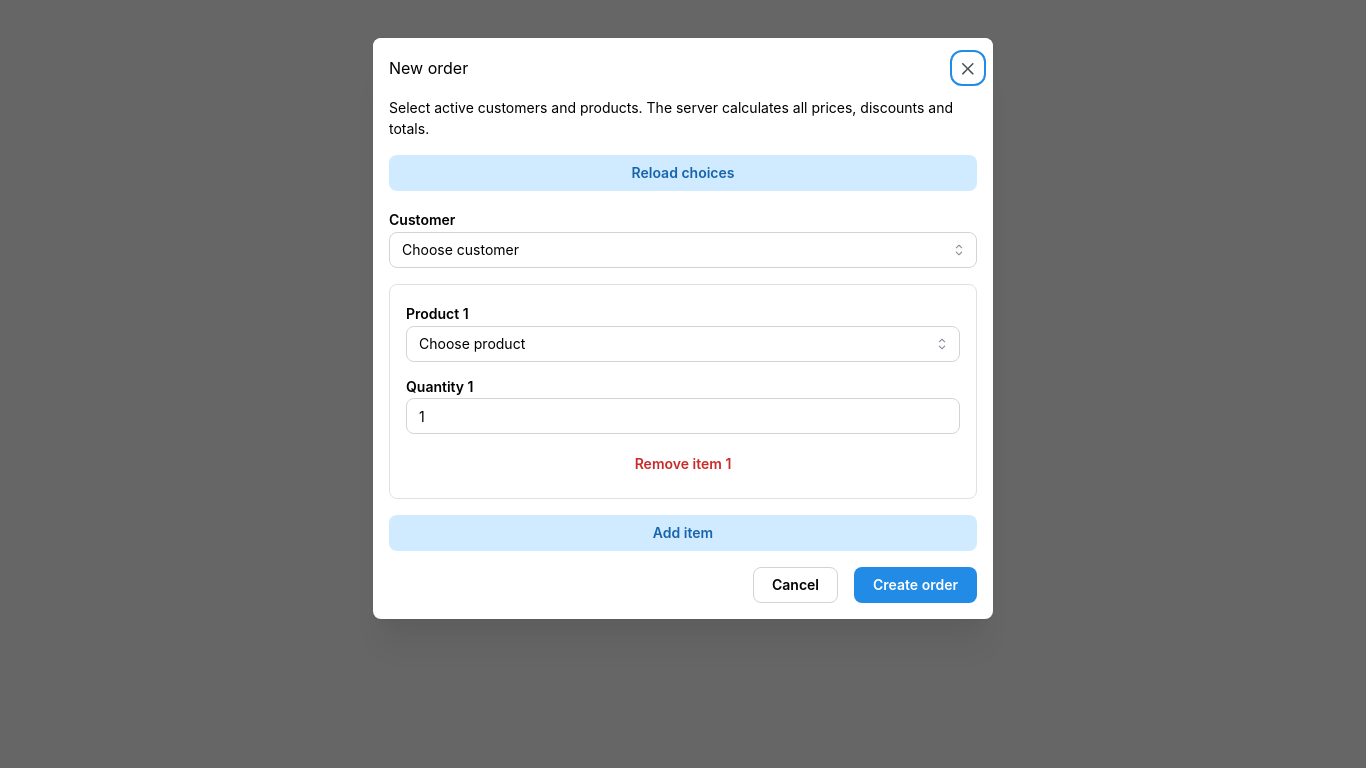
Test case: order integration › retains draft on inactive creation failure without replay
Select "Current Customer (current@example.invalid)" in the dropdown labelled "Customer" at (683, 250), box [389,232,977,268]
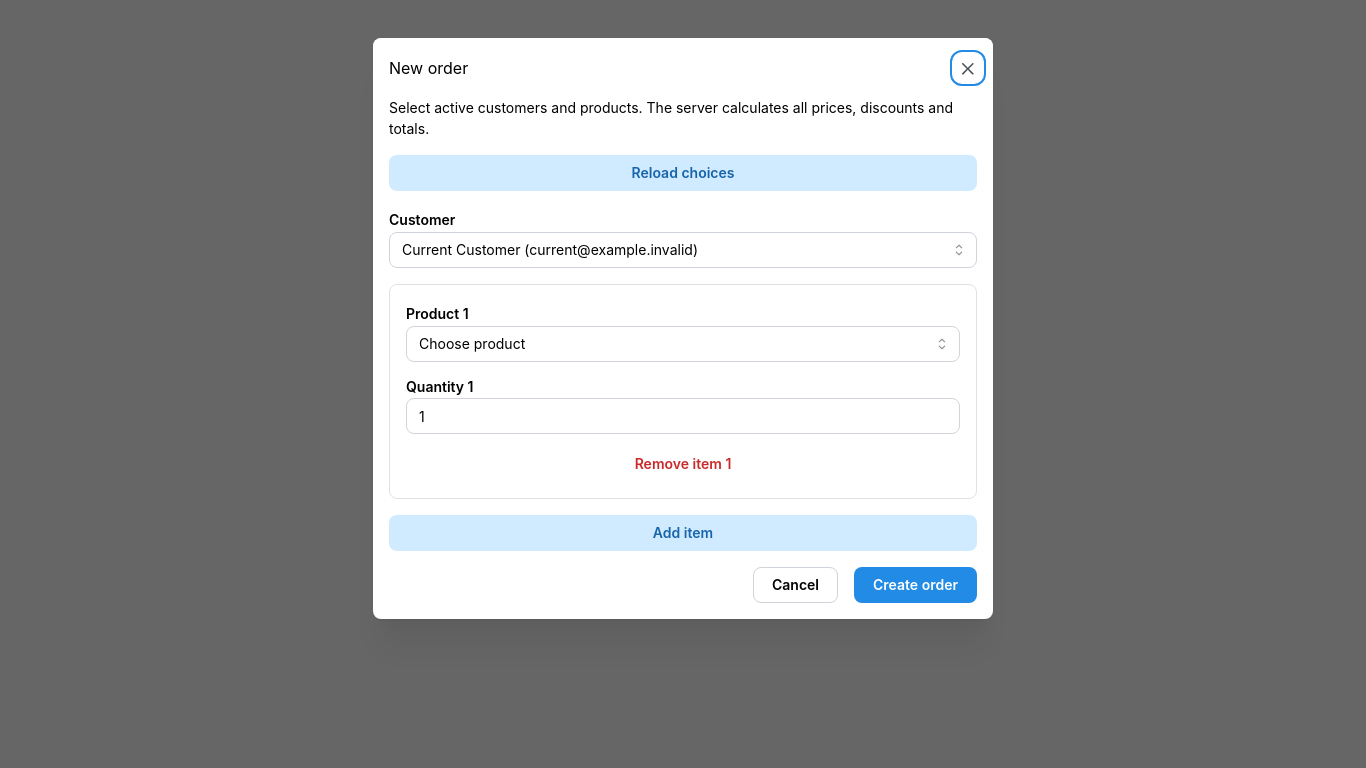
Select "Current Catalog Name" in the dropdown labelled "Product 1" at (683, 344), box [406,326,960,362]
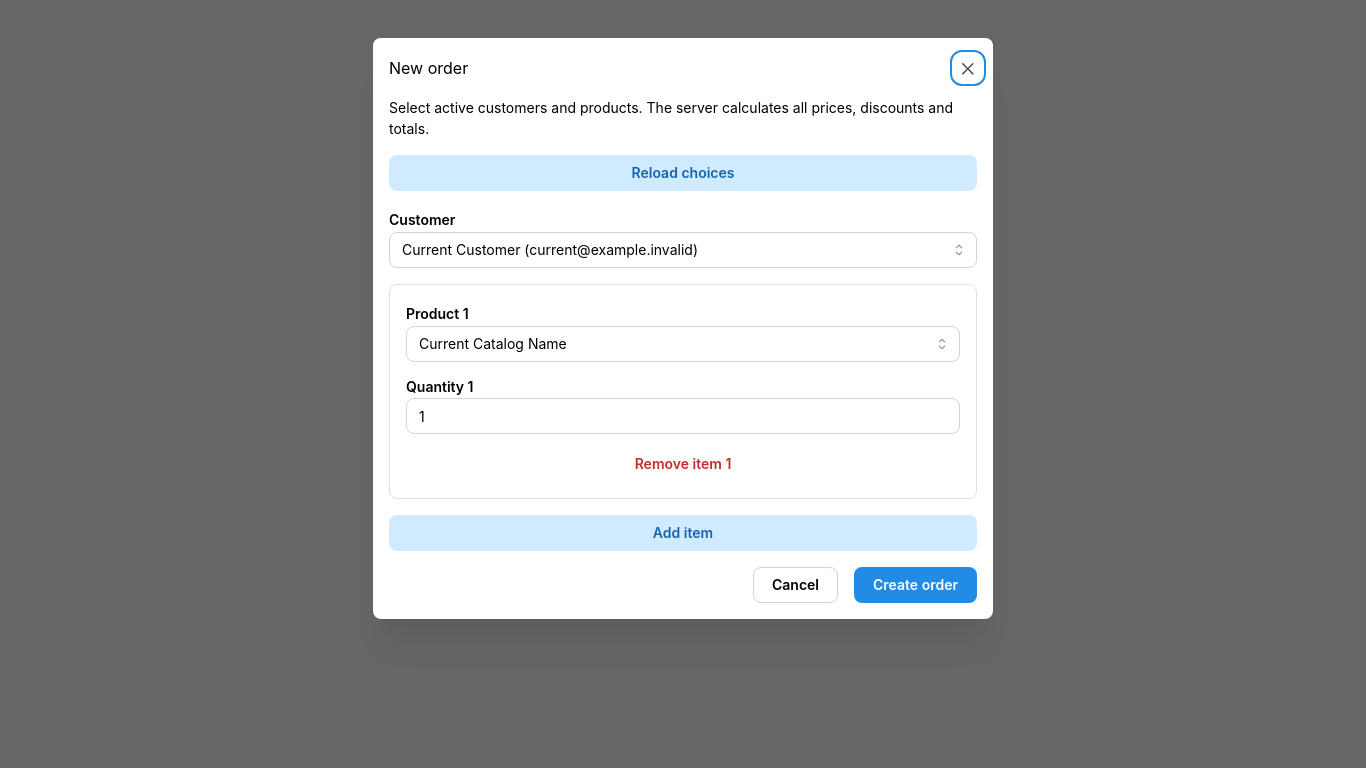
Replace the text in the field labelled "Quantity 1" with "7" at (683, 416), box [406,398,960,434]
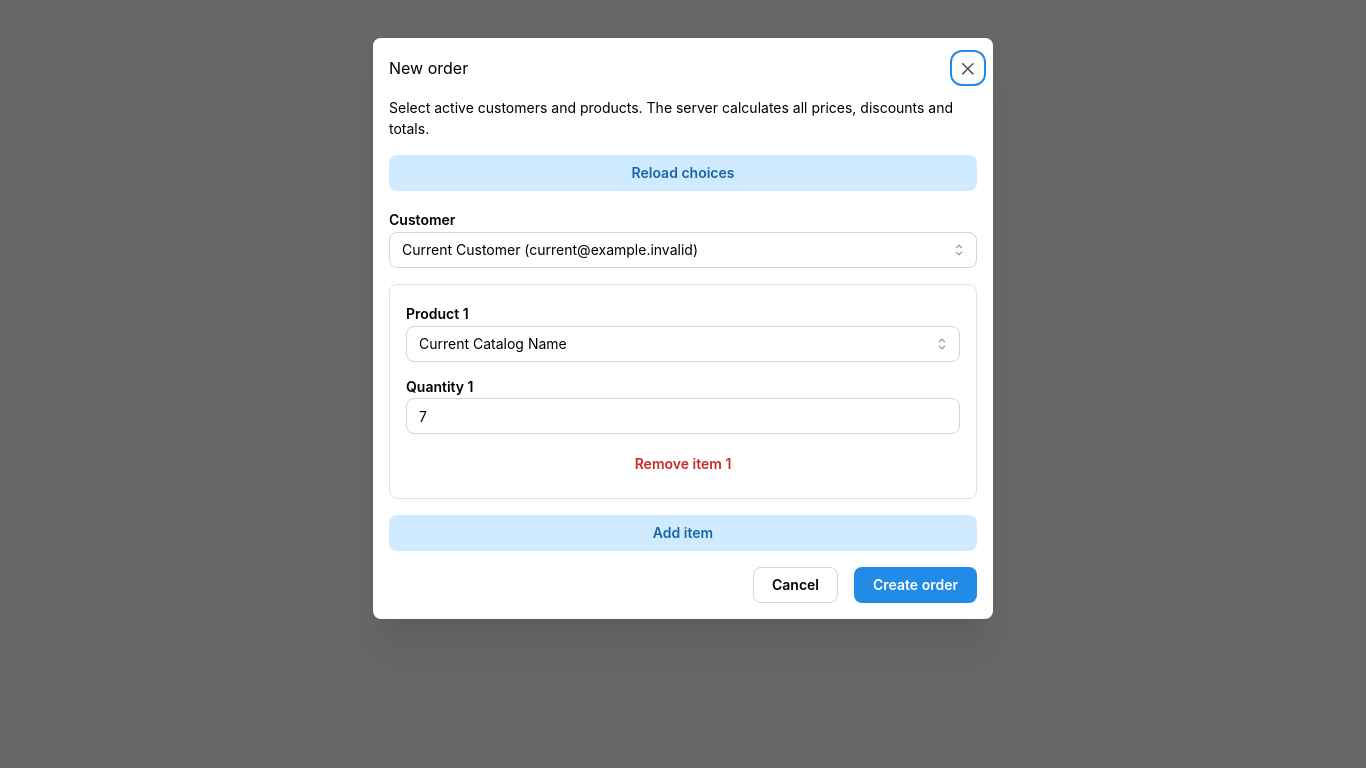
Click the button "Create order" at (916, 585), box [854,567,977,603]
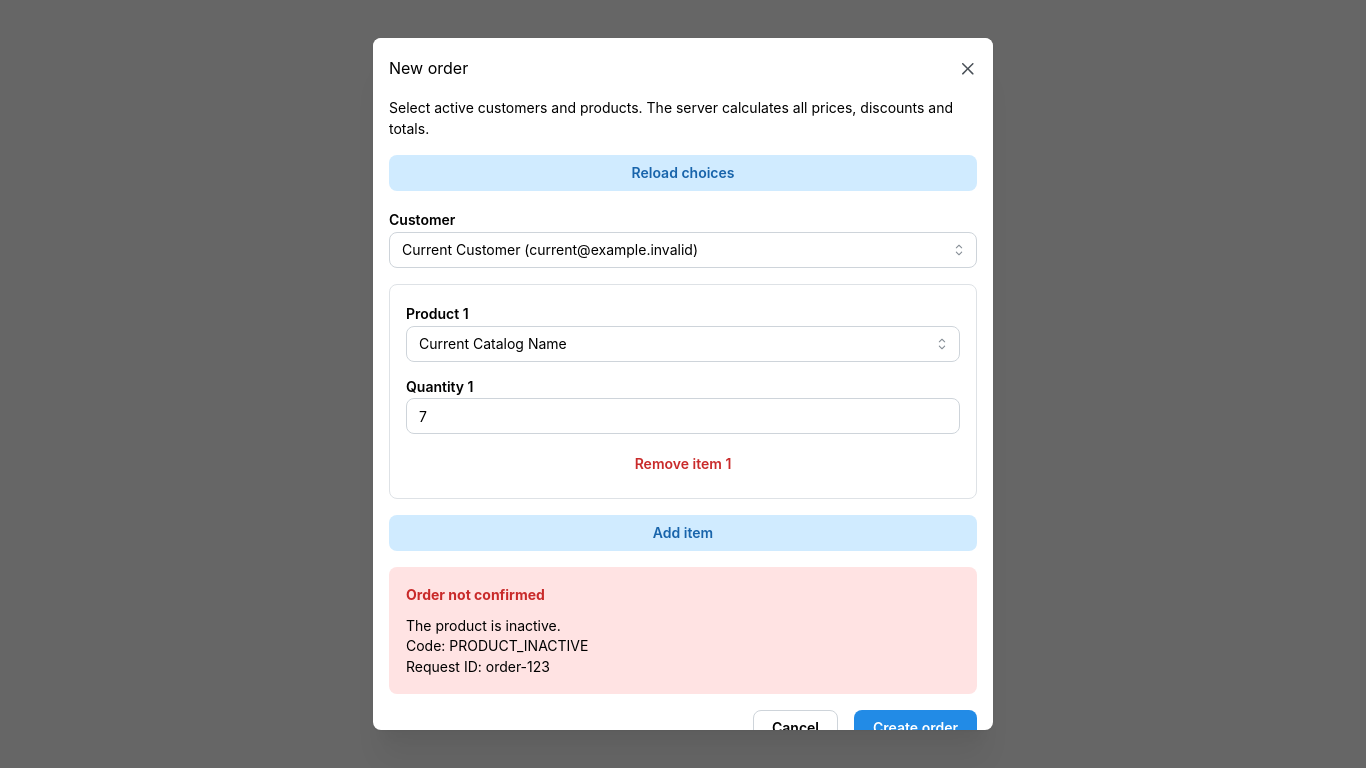
Result: the message shows "PRODUCT_INACTIVE" at [449,637,588,654]
